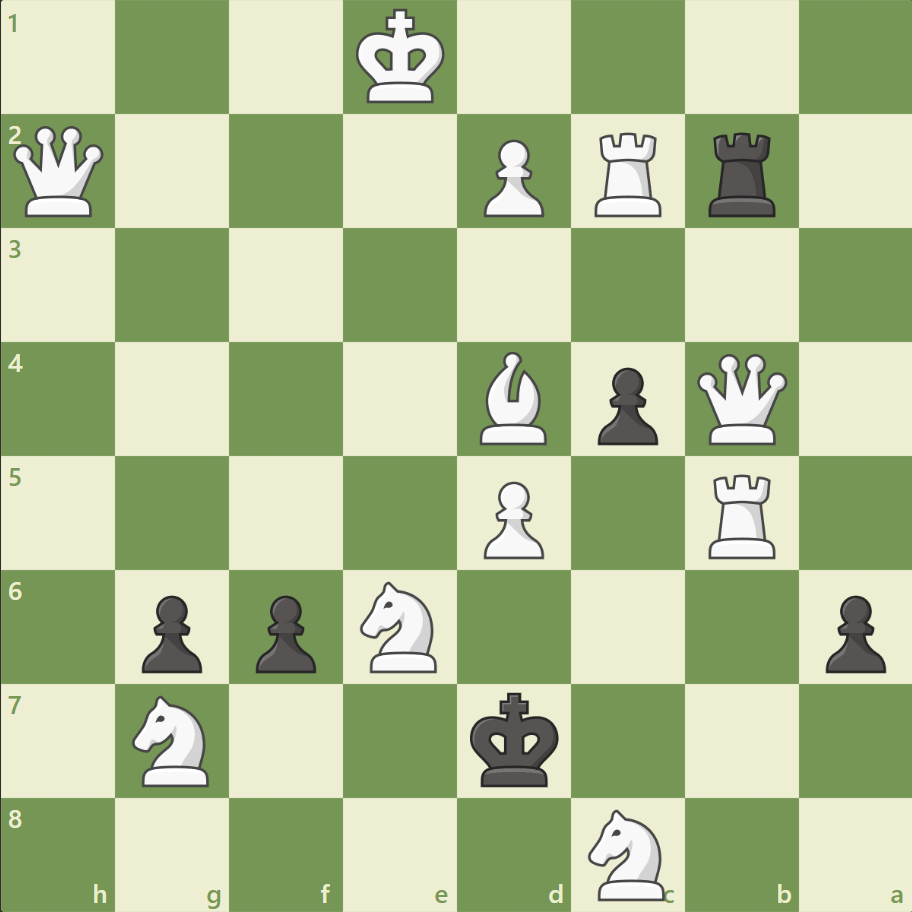B: (471, 347, 555, 449)
K: (351, 4, 451, 112)
N: (124, 688, 222, 791), (351, 575, 449, 677), (579, 802, 676, 904)
P: (474, 473, 549, 564), (474, 132, 549, 223)
Q: (691, 349, 790, 449), (10, 122, 109, 222)
R: (700, 466, 783, 563), (587, 125, 670, 222)
k: (465, 685, 565, 793)
p: (247, 586, 322, 677), (133, 586, 208, 677), (815, 586, 889, 677), (588, 359, 662, 450)
r: (700, 125, 783, 222)
